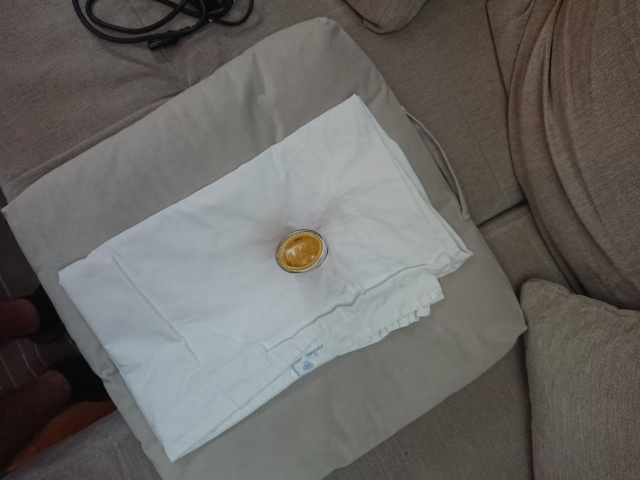Kotanyi Curry Spices Mix 70g: (274, 227, 330, 275)
